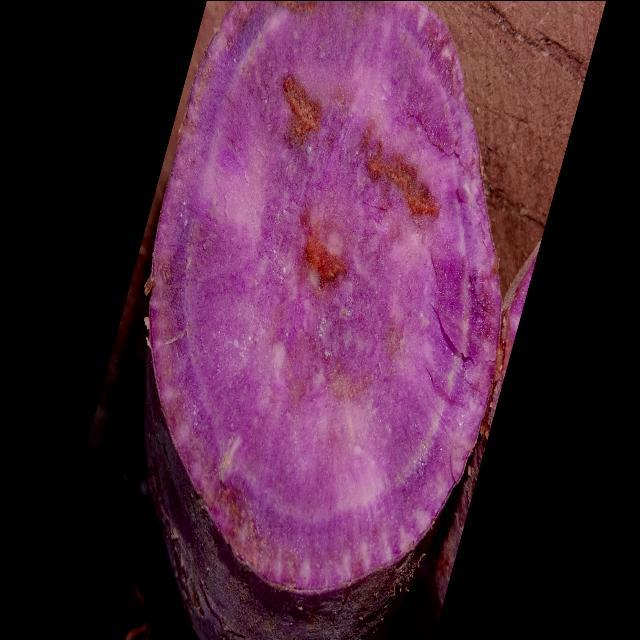Sick Sweet Potato_Tuber Rot: (150, 2, 501, 591)
